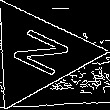N_SE: (2, 25, 74, 83)
